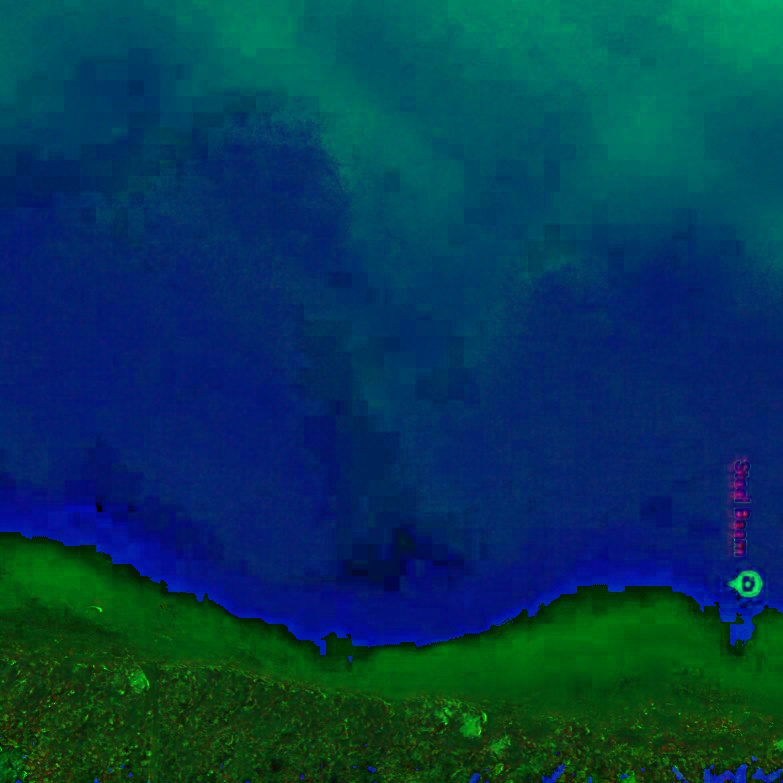rip_current: (233, 161, 488, 606)
